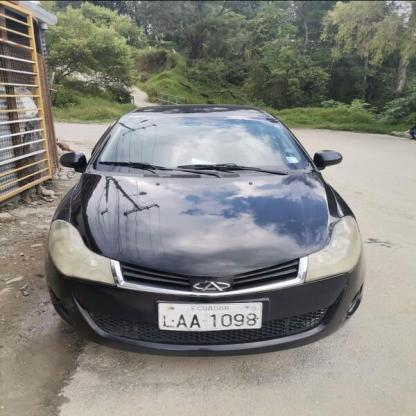Placa: (159, 302, 264, 331)
